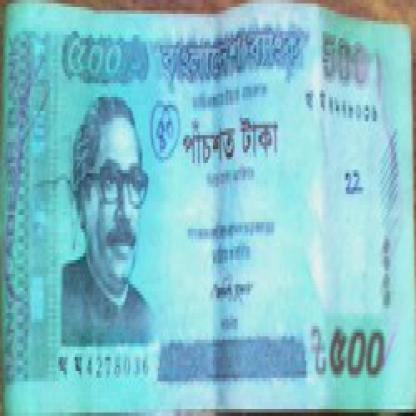500 taka: (316, 284, 390, 395), (58, 28, 145, 94)
currency: (3, 11, 414, 413)
